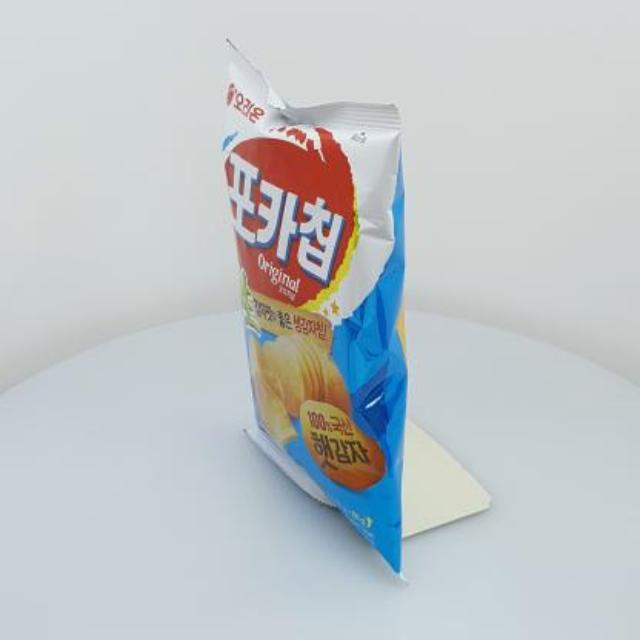snack_bag: (134, 28, 462, 592)
